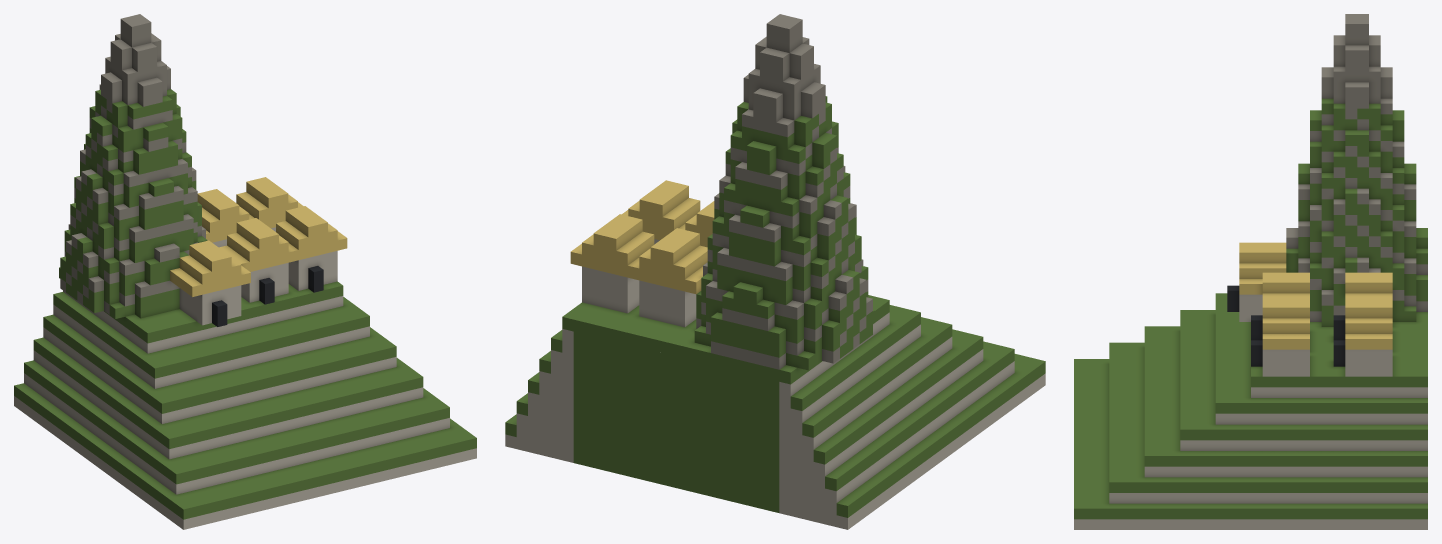
Rendered from w_machu_picchu.glb.
3 renders of one model, left to right at view 1: azimuth 30°, elevation 25°; view 2: azimuth 150°, elevation 25°; view 3: azimuth 270°, elevation 25°, orthographic. The views are drawn at different scales.
Parts seen in each view (by area): view 1: w_machu_picchu_body; view 2: w_machu_picchu_body; view 3: w_machu_picchu_body.
Part boxes in pixels (bbox=[...]): w_machu_picchu_body: bbox=[14, 14, 476, 529]; w_machu_picchu_body: bbox=[505, 14, 1045, 529]; w_machu_picchu_body: bbox=[1074, 14, 1427, 529].
Bounding box in the file's own units: 1.88 × 2.38 × 1.88.
1 material, 1 textured.
